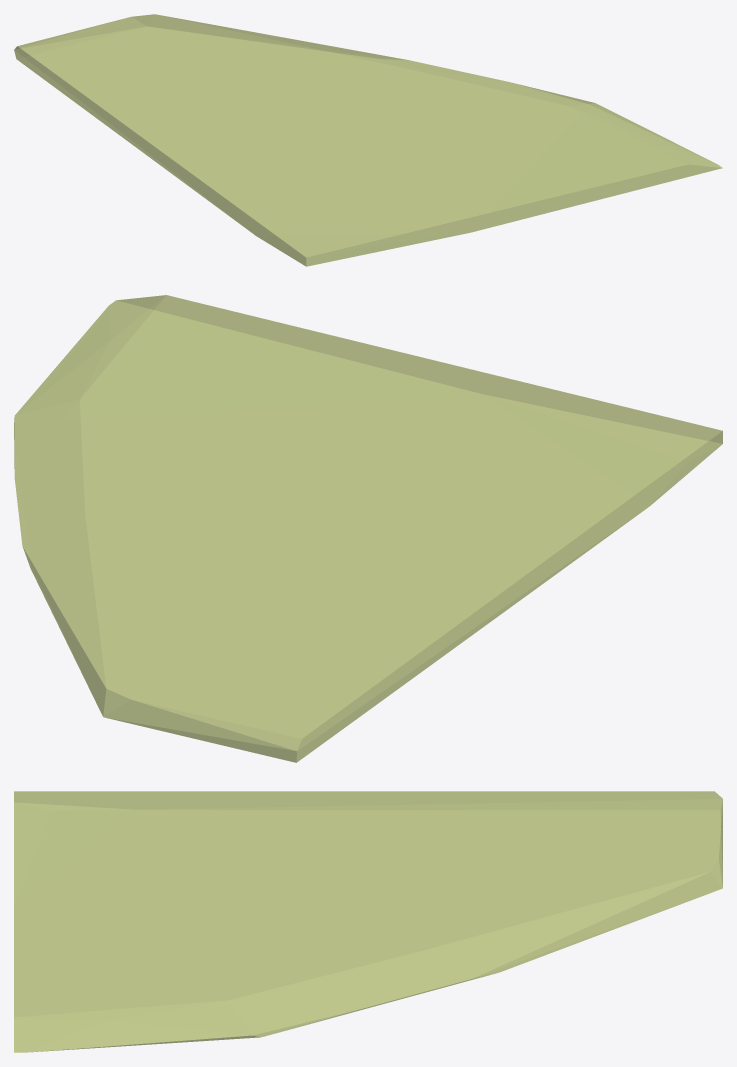
3 renders of one model, top to bottom at view 1: azimuth 30°, elevation 25°; view 2: azimuth 150°, elevation 25°; view 3: azimuth 270°, elevation 25°, orthographic. The views are drawn at different scales.
Visible parts, largest first — view 1: Shape_IndexedFaceSet.002_Shape_IndexedFaceSet.5893; view 2: Shape_IndexedFaceSet.002_Shape_IndexedFaceSet.5893; view 3: Shape_IndexedFaceSet.002_Shape_IndexedFaceSet.5893.
Part boxes in pixels (box(x1,y1,x2,y2)): Shape_IndexedFaceSet.002_Shape_IndexedFaceSet.5893: box(14, 14, 722, 266); Shape_IndexedFaceSet.002_Shape_IndexedFaceSet.5893: box(14, 295, 722, 762); Shape_IndexedFaceSet.002_Shape_IndexedFaceSet.5893: box(14, 791, 722, 1052).
Bounding box in the file's own units: 0.2837 × 0.00985 × 0.3448.
